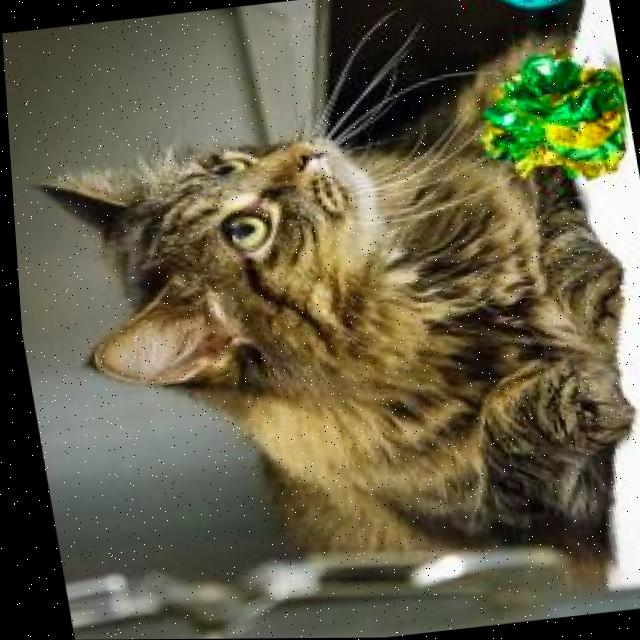Maine Coon: (8, 44, 640, 625)
